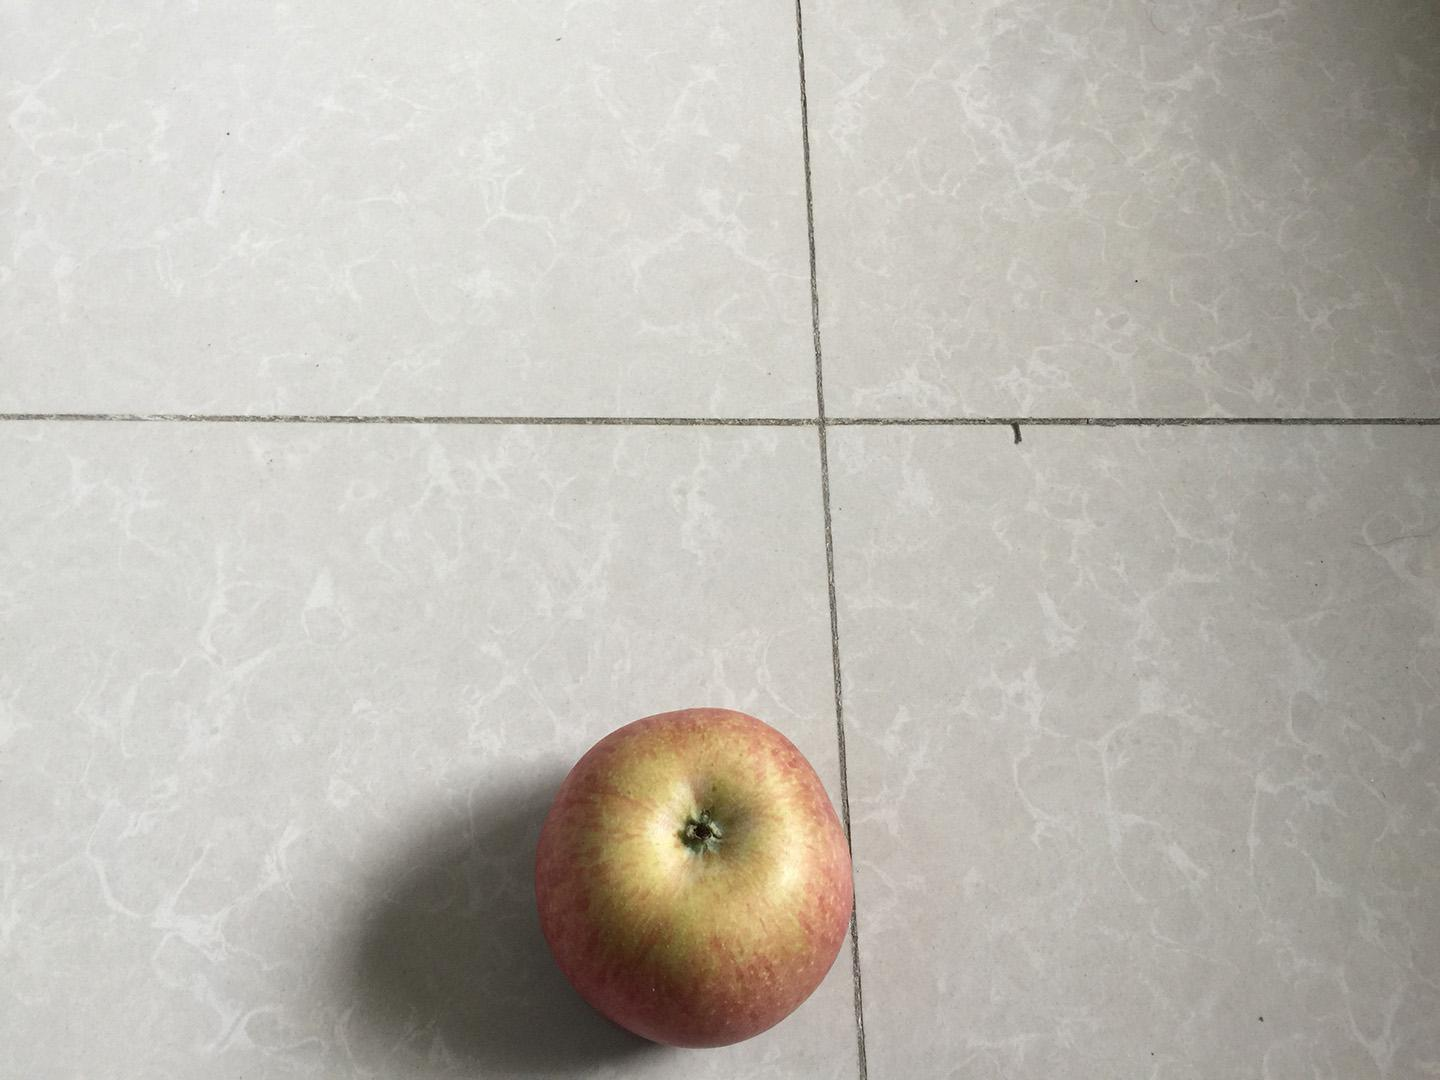apple: (528, 702, 863, 1057)
